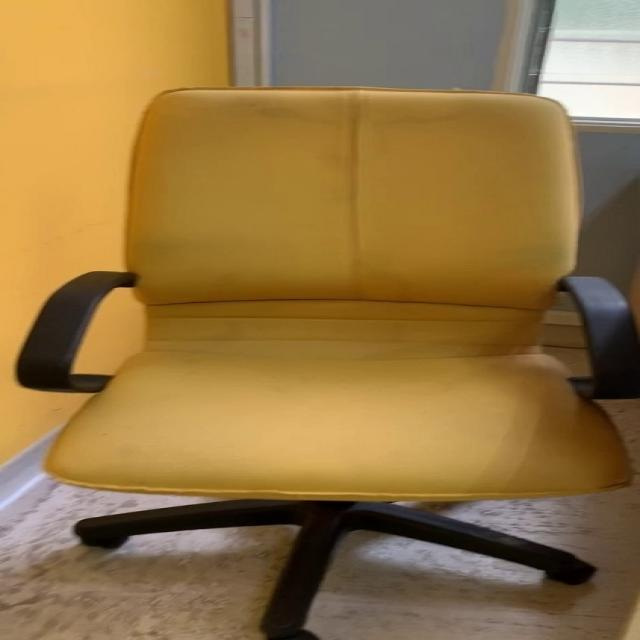chair: (9, 77, 640, 640)
